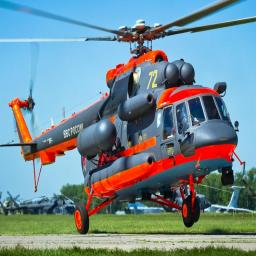helicopter: (9, 1, 250, 232)
